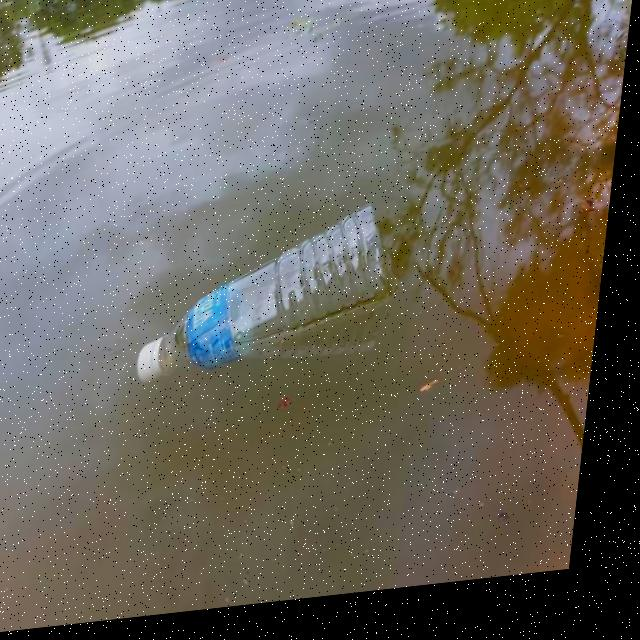waterbottle: (146, 203, 408, 401)
